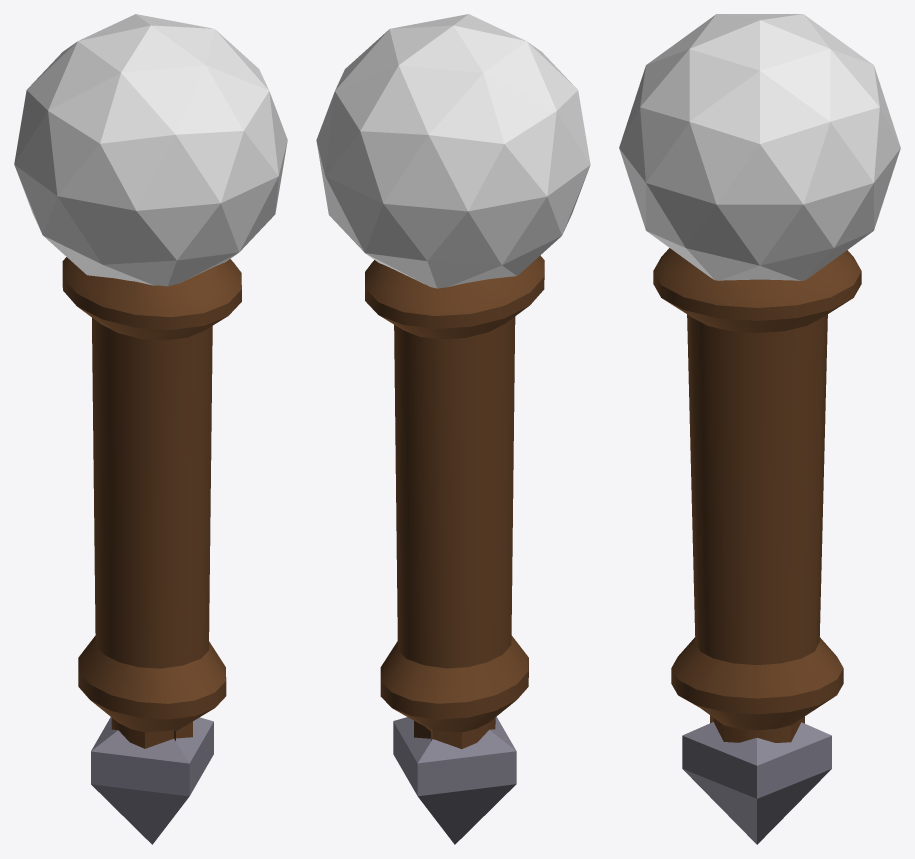
File: torch.fbx
The picture shows the model from 3 angles, left to right: view 1: azimuth 30°, elevation 25°; view 2: azimuth 150°, elevation 25°; view 3: azimuth 270°, elevation 25°; orthographic projection.
Visible parts, largest first — view 1: Handle, Bulb; view 2: Handle, Bulb; view 3: Handle, Bulb.
Boxes of the visible parts, <box> form: Handle: <box>62,257,241,844</box>; Bulb: <box>14,14,287,286</box>; Handle: <box>365,255,544,844</box>; Bulb: <box>316,14,590,288</box>; Handle: <box>653,248,861,844</box>; Bulb: <box>619,14,900,280</box>.
Bounding box in the file's own units: 0.0966 × 0.3279 × 0.1016.
